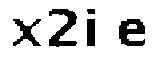2: (44, 6, 79, 49)
e: (115, 17, 147, 52)
i: (83, 6, 106, 50)
x: (9, 15, 40, 49)
